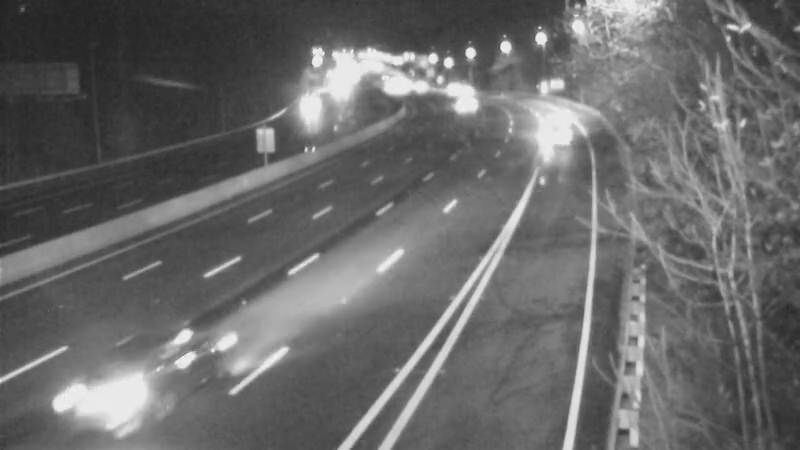vehicle: (58, 342, 168, 450), (441, 79, 491, 129), (526, 91, 576, 141), (533, 115, 583, 165), (278, 85, 328, 135)
